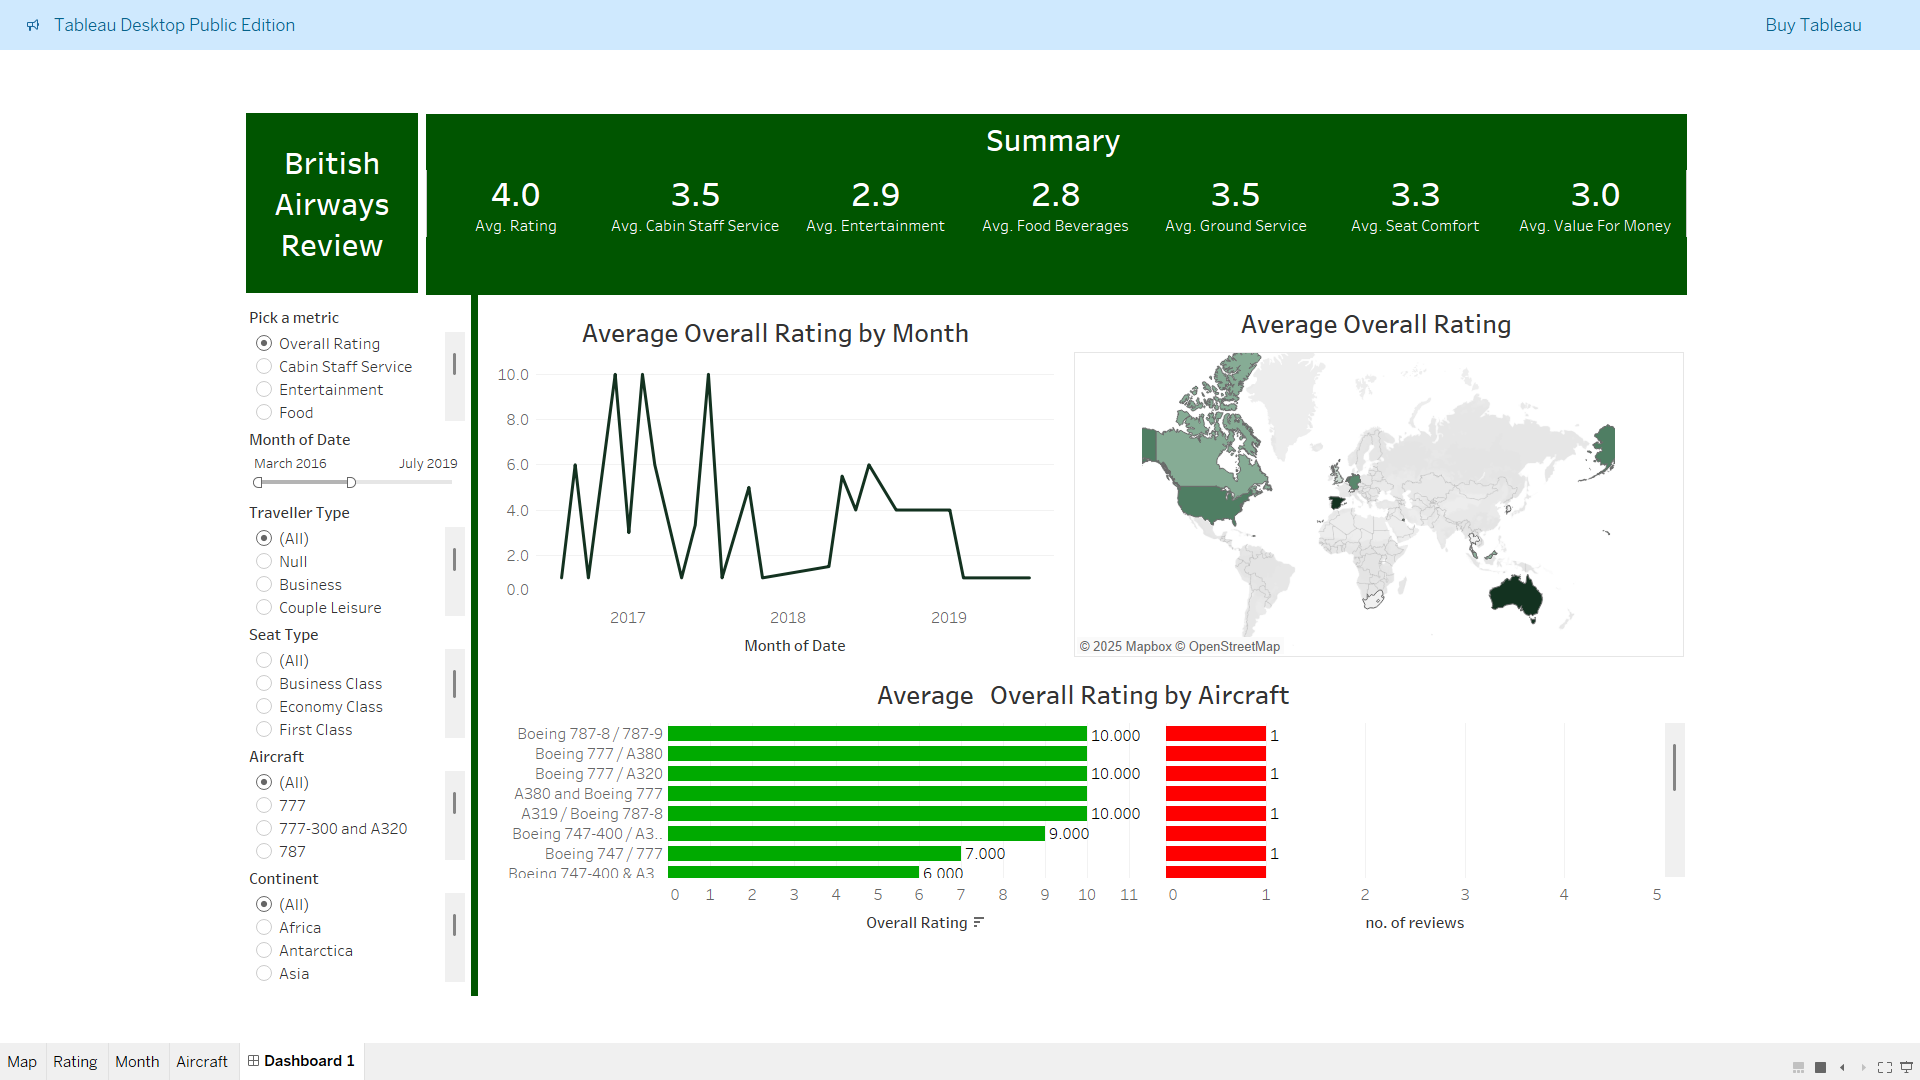

This screenshot's page, from the dashboard's own definition file:
{"tool":"tableau","page":{"name":"Dashboard 1","canvas":[1500,900],"ordinal":0},"visuals":[{"type":"text","box":[36,16.7,172,180]},{"type":"worksheet","title":"Rating","mark":"Automatic","box":[216,18,1261,181.3]},{"type":"blank","box":[261,199,7,701]},{"type":"worksheet","title":"Map","mark":"Automatic","box":[864,206,610,355]},{"type":"parameter","param":"[Parameters].[Parameter 1]","box":[35,207,224,121.9]},{"type":"worksheet","title":"Month","mark":"Automatic","rows":["Calculation_594756679250665472"],"cols":["date"],"box":[287,215,557,352]},{"type":"filter","title":"Map","param":"[federated.1y826uv1bi88qi119zjxe1ial2fh].[tmn:date:qk]","box":[35,328.9,224,73]},{"type":"filter","title":"Map","param":"[federated.1y826uv1bi88qi119zjxe1ial2fh].[none:traveller_type:nk]","box":[35,401.9,224,121.9]},{"type":"filter","title":"Map","param":"[federated.1y826uv1bi88qi119zjxe1ial2fh].[none:seat_type:nk]","box":[35,523.9,224,121.9]},{"type":"worksheet","title":"Aircraft","mark":"Automatic","rows":["aircraft"],"cols":["Calculation_594756679250665472","ba_reviews.csv_9B8814E93B334059BCCD26CAD5C97691"],"box":[298,577,1177,267]},{"type":"filter","title":"Map","param":"[federated.1y826uv1bi88qi119zjxe1ial2fh].[none:aircraft:nk]","box":[35,645.8,224,121.9]},{"type":"filter","title":"Map","param":"[federated.1y826uv1bi88qi119zjxe1ial2fh].[none:Continent:nk]","box":[35,767.8,224,121.9]}]}

Visuals, with their boxes on the page's 1500x900 design canvas (x1, y1, x2, y2). These are canvas units, not pixel positions in the 1920x1080 screenshot, which may show the page scaled, cropped or inside an application window:
text: (x1=36, y1=17, x2=208, y2=197)
"Rating" worksheet: (x1=216, y1=18, x2=1477, y2=199)
blank: (x1=261, y1=199, x2=268, y2=900)
"Map" worksheet: (x1=864, y1=206, x2=1474, y2=561)
parameter: (x1=35, y1=207, x2=259, y2=329)
"Month" worksheet: (x1=287, y1=215, x2=844, y2=567)
"Map" filter: (x1=35, y1=329, x2=259, y2=402)
"Map" filter: (x1=35, y1=402, x2=259, y2=524)
"Map" filter: (x1=35, y1=524, x2=259, y2=646)
"Aircraft" worksheet: (x1=298, y1=577, x2=1475, y2=844)
"Map" filter: (x1=35, y1=646, x2=259, y2=768)
"Map" filter: (x1=35, y1=768, x2=259, y2=890)
